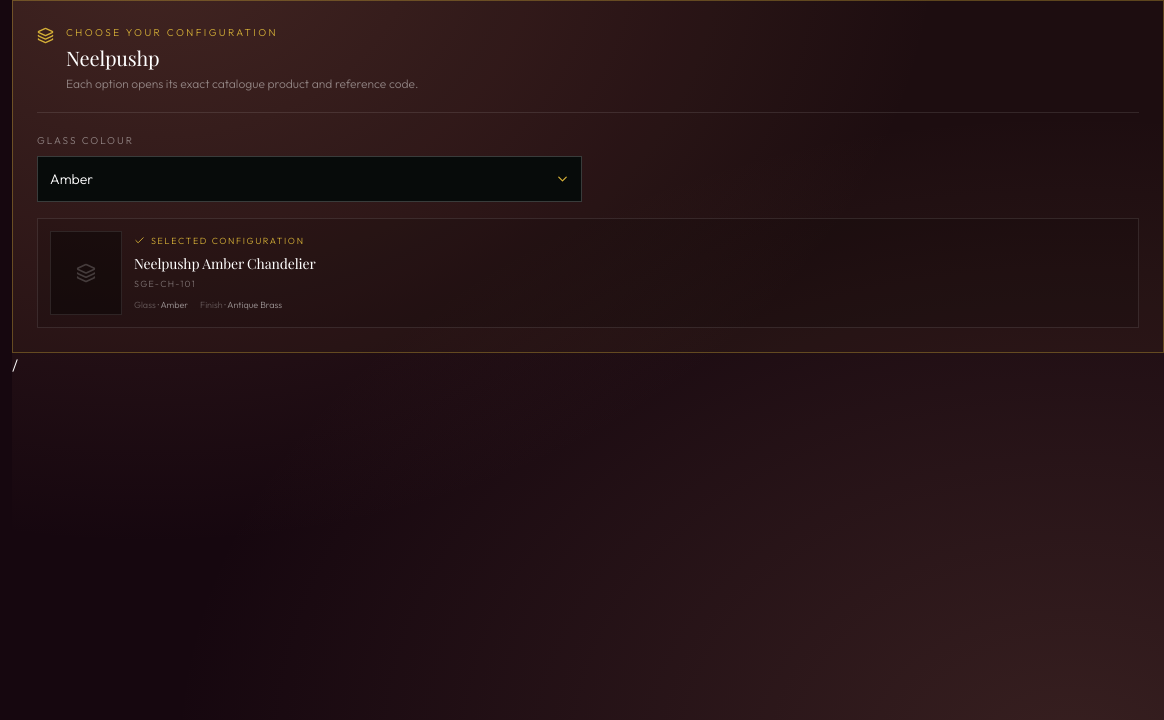
Test: customer selector shows only the differences approved by the administrator
Select "Clear" in the dropdown labelled "Glass colour": (310, 179) [37,156,582,202]
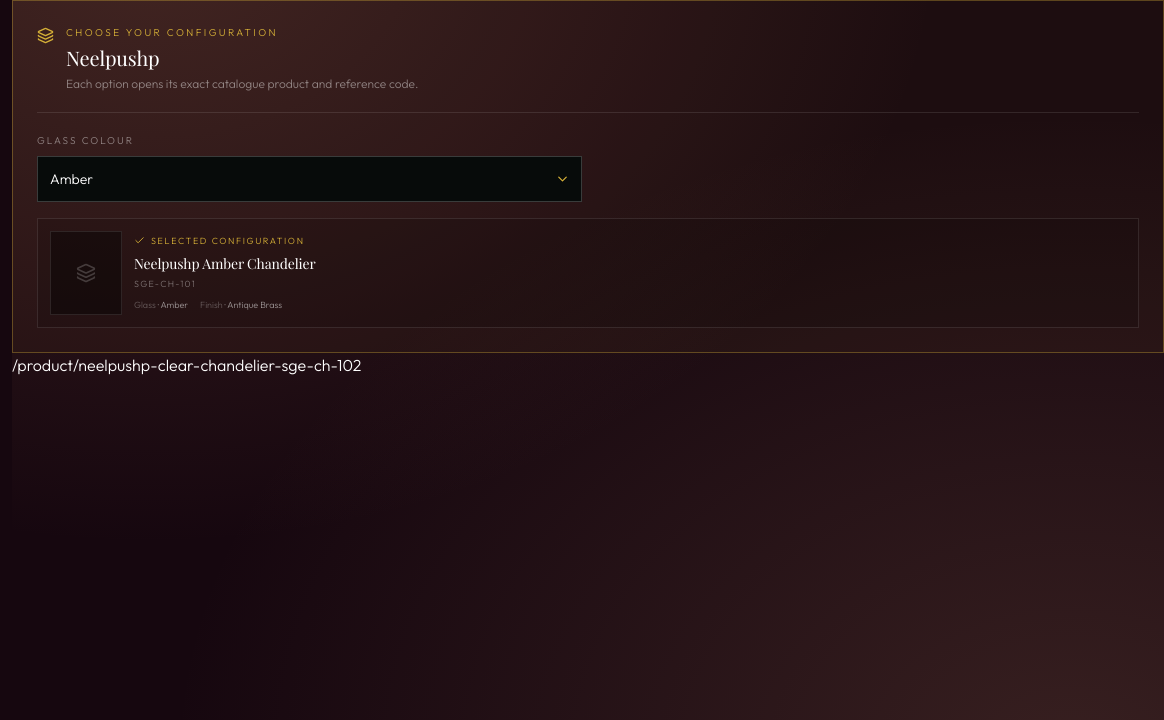
Expected: the text with test id "location" shows "sge-ch-102", [12,355,362,375]
